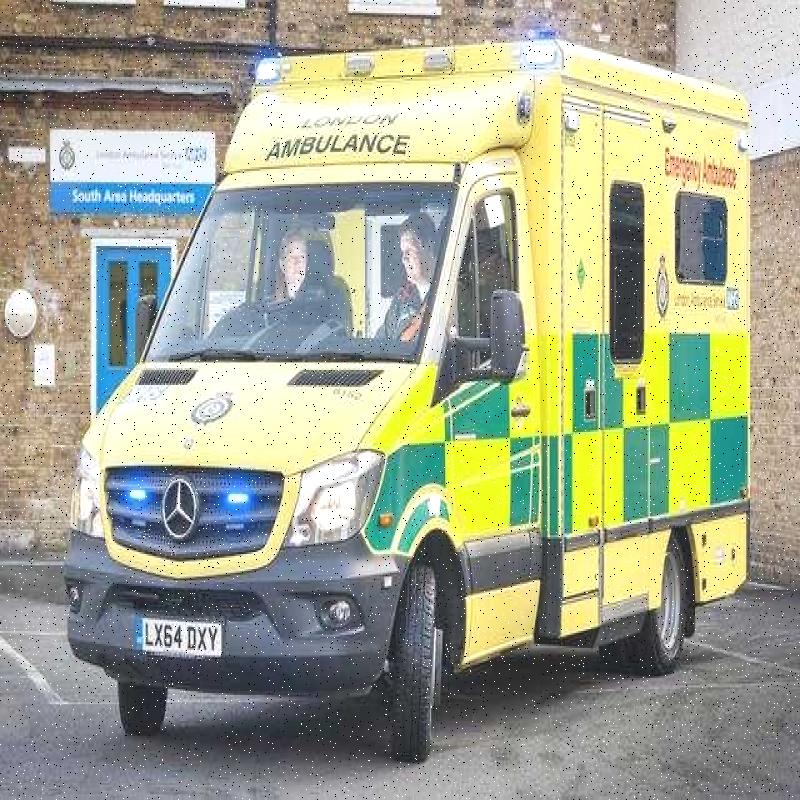AmbulanceSiren: (236, 5, 554, 105)
